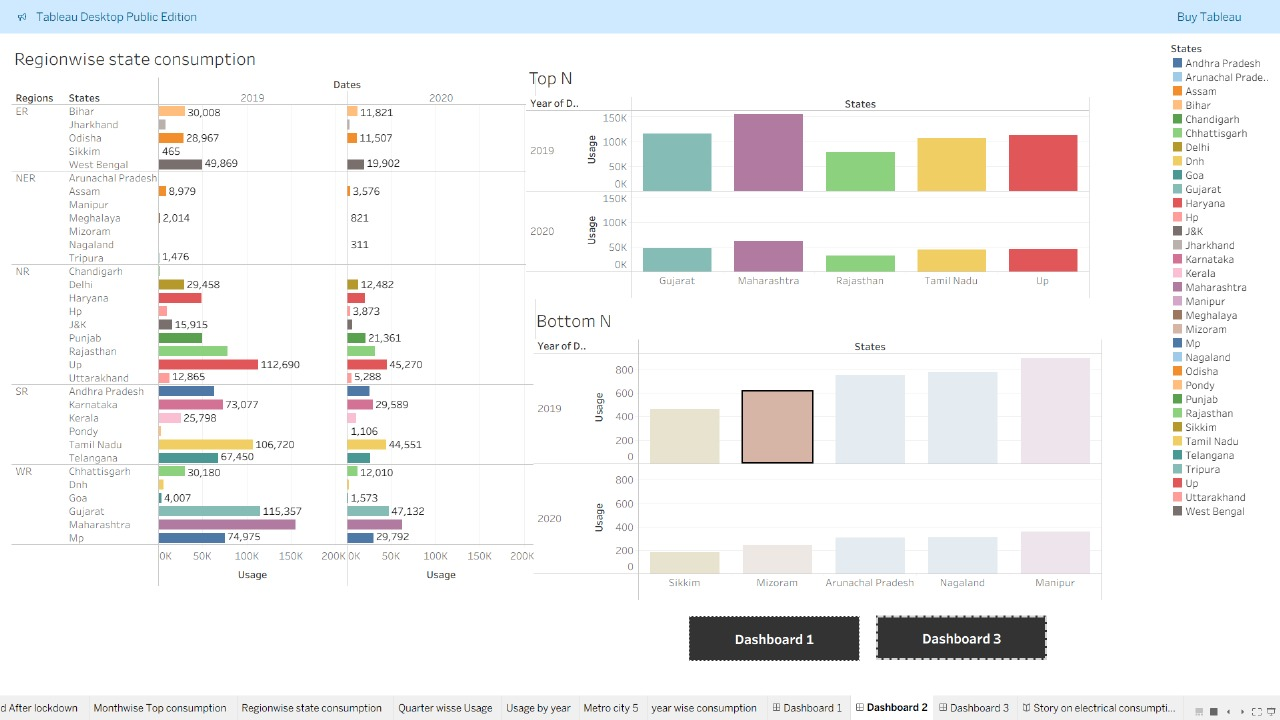

The dashboard page shown, as its layout file describes it:
{"tool":"tableau","page":{"name":"Dashboard 2","canvas":[1000,1000],"units":"permille","ordinal":1},"visuals":[{"type":"legend","title":"Regionwise state consumption","param":"[federated.08j8gbb139yky215o14ub1xfidkd].[none:States:nk]","box":[863.3,10.4,130.2,893.2]},{"type":"worksheet","title":"Regionwise state consumption","mark":"Automatic","rows":["Regions","States"],"cols":["Dates","Usage"],"box":[9,15.6,410.1,981.8]},{"type":"worksheet","title":"Top N","mark":"Automatic","rows":["Dates","Usage"],"cols":["States"],"box":[410.9,45.6,440.2,355.5]},{"type":"worksheet","title":"Bottom N","mark":"Automatic","rows":["Dates","Usage"],"cols":["States"],"box":[416.6,411.5,444.3,445.3]},{"type":"dashboard-object","box":[684.3,878.9,133.4,67.7]},{"type":"dashboard-object","box":[537.8,880.2,133.4,67.7]}]}

Visuals, with their boxes on the dashboard's canvas, which has no fixed pixel size, in thousandths of its width and height (x1, y1, x2, y2). These are canvas units, not pixel positions in the 1280x720 screenshot, which may show the page scaled, cropped or inside an application window:
"Regionwise state consumption" legend: bbox(863, 10, 994, 904)
"Regionwise state consumption" worksheet: bbox(9, 16, 419, 997)
"Top N" worksheet: bbox(411, 46, 851, 401)
"Bottom N" worksheet: bbox(417, 412, 861, 857)
dashboard-object: bbox(684, 879, 818, 947)
dashboard-object: bbox(538, 880, 671, 948)
